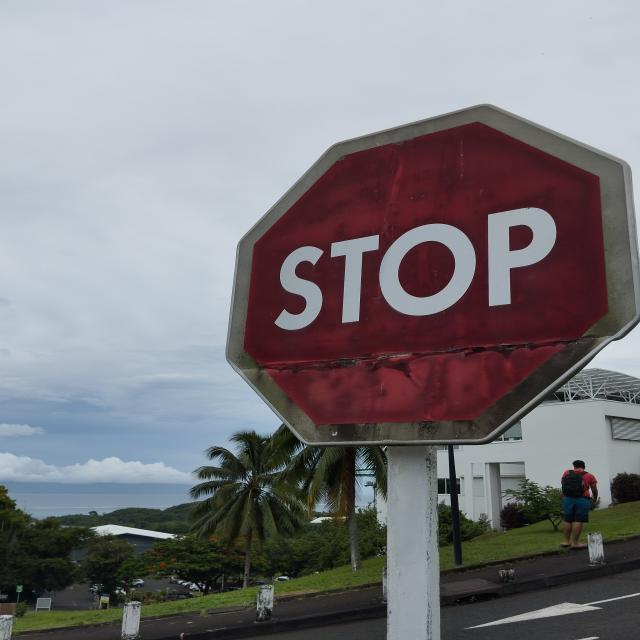Panneau-Stop: (225, 97, 640, 452)
